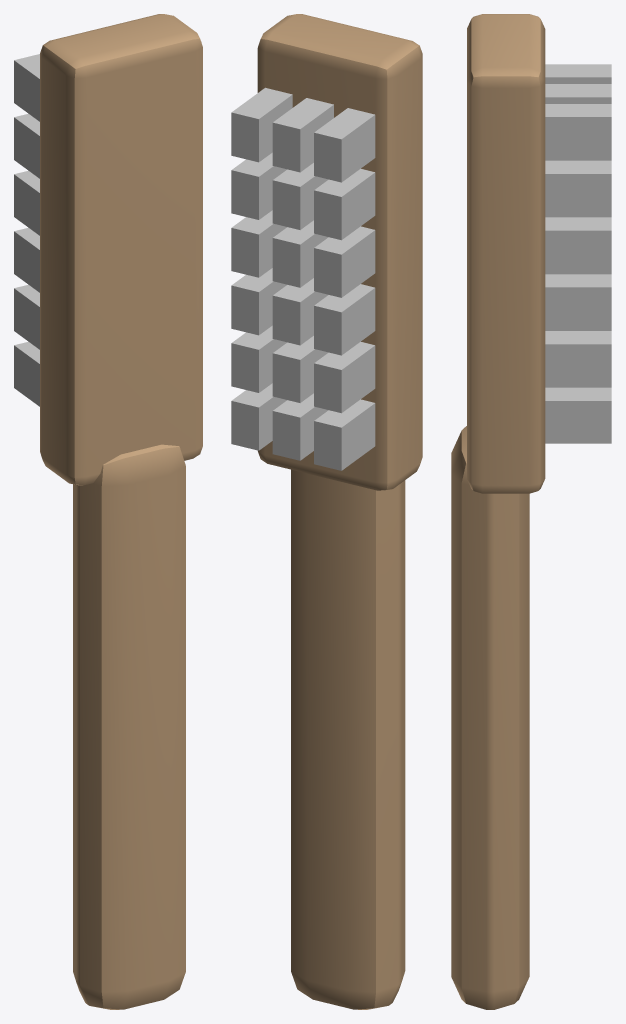
File: tool_brush.glb
3 views of the same model, side by side, from view 1: azimuth 30°, elevation 25°; view 2: azimuth 150°, elevation 25°; view 3: azimuth 270°, elevation 25° (orthographic).
Parts seen in each view (by area): view 1: SM_tool_brush; view 2: SM_tool_brush; view 3: SM_tool_brush.
Part boxes in pixels (bbox=[...]): SM_tool_brush: bbox=[14, 14, 202, 1009]; SM_tool_brush: bbox=[231, 14, 422, 1009]; SM_tool_brush: bbox=[451, 14, 611, 1009].
Size of the model in its own units: 0.04 by 0.27 by 0.041.
